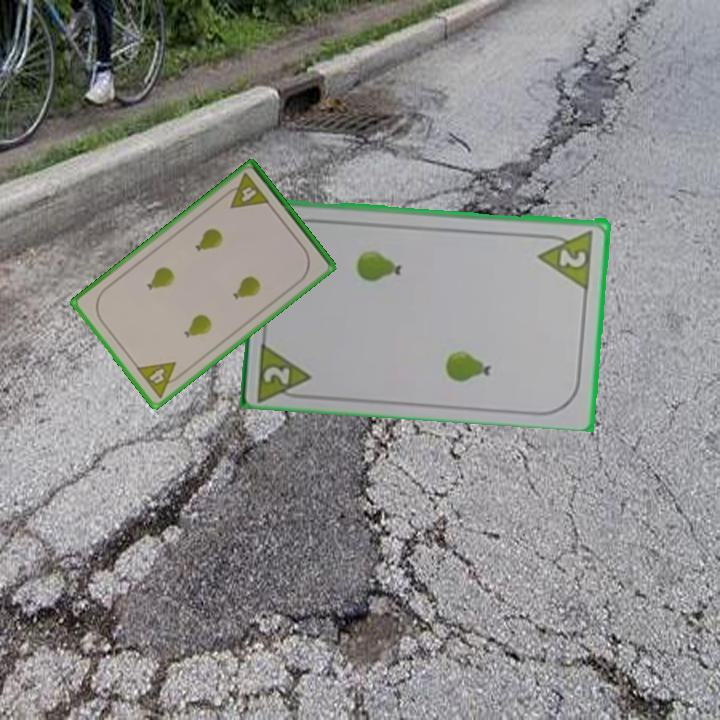2p: (253, 335, 316, 402), (535, 226, 596, 290)
4p: (133, 358, 187, 401), (220, 170, 272, 212)
